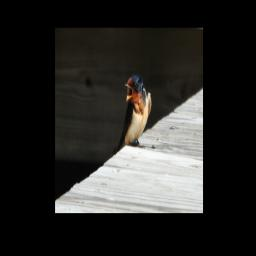Swallow: (119, 72, 152, 147)
